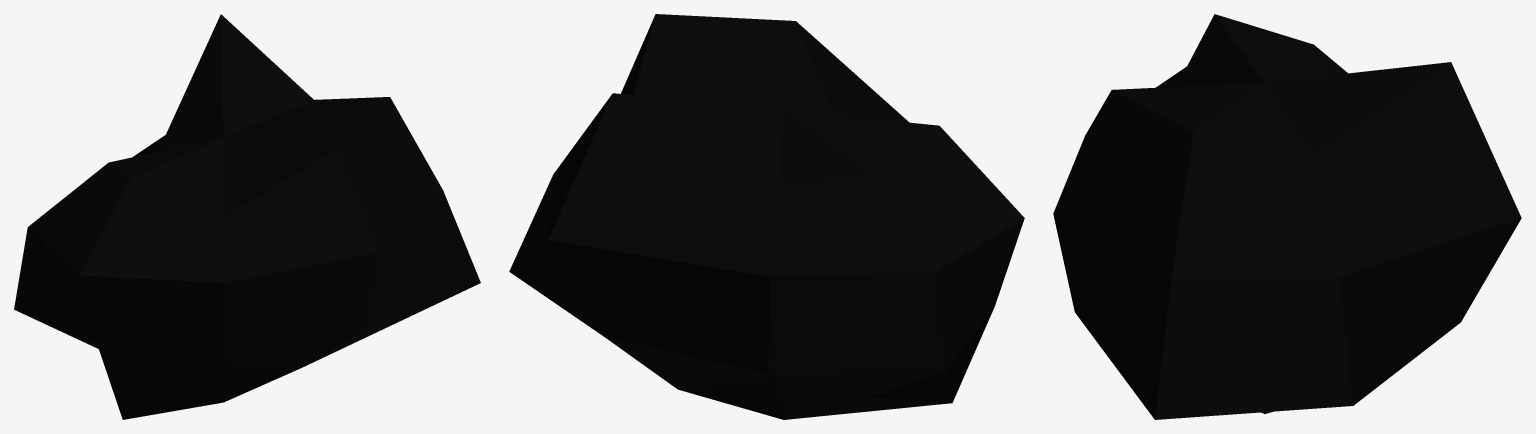
The model's file is SM_boulder_large.fbx.
The picture shows the model from 3 angles, left to right: view 1: azimuth 30°, elevation 25°; view 2: azimuth 150°, elevation 25°; view 3: azimuth 270°, elevation 25°; orthographic projection. The views are drawn at different scales.
Visible parts, largest first — view 1: boulder_large; view 2: boulder_large; view 3: boulder_large.
Part boxes in pixels (box(x1,y1,x2,y2)): boulder_large: box(14, 14, 480, 419); boulder_large: box(509, 14, 1024, 419); boulder_large: box(1053, 14, 1521, 419).
Bounding box in the file's own units: 2.56 × 2 × 2.14.
